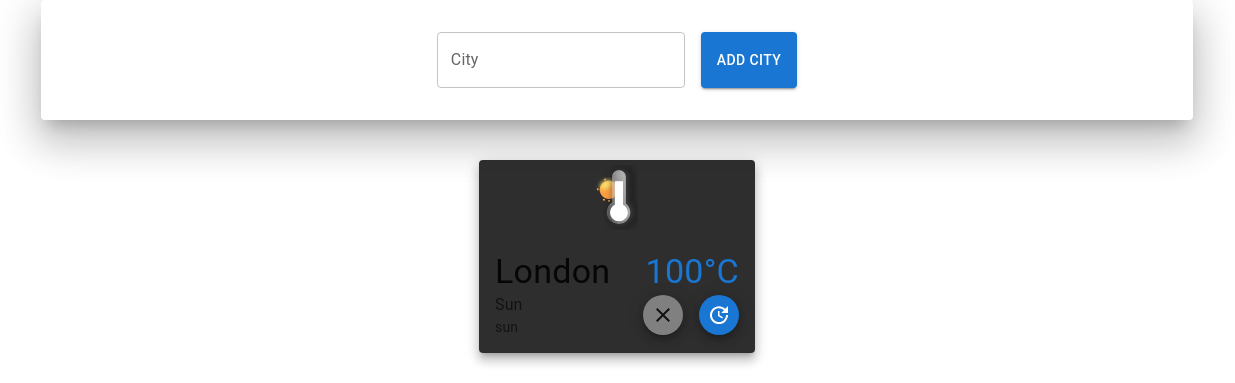
MainPage › City is deleted after click on delete button
Expected: the button with test id "cityWeatherCard" is shown, left=479, top=160, right=755, bottom=353
Expected: the heading "London" is shown, left=495, top=251, right=610, bottom=293
Click the button with test id "deleteCityButton" at (663, 315), box left=643, top=295, right=683, bottom=335
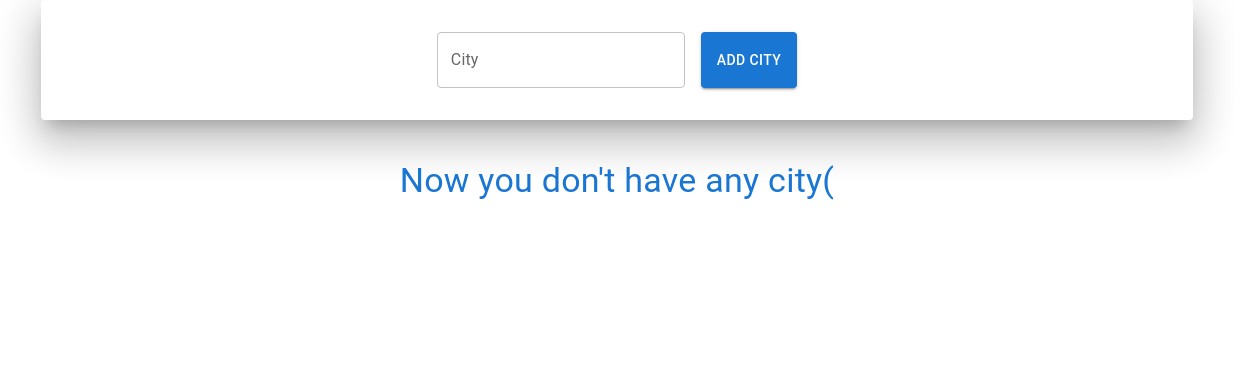
Expected: the button with test id "cityWeatherCard" is gone
Expected: the button "London" is gone
